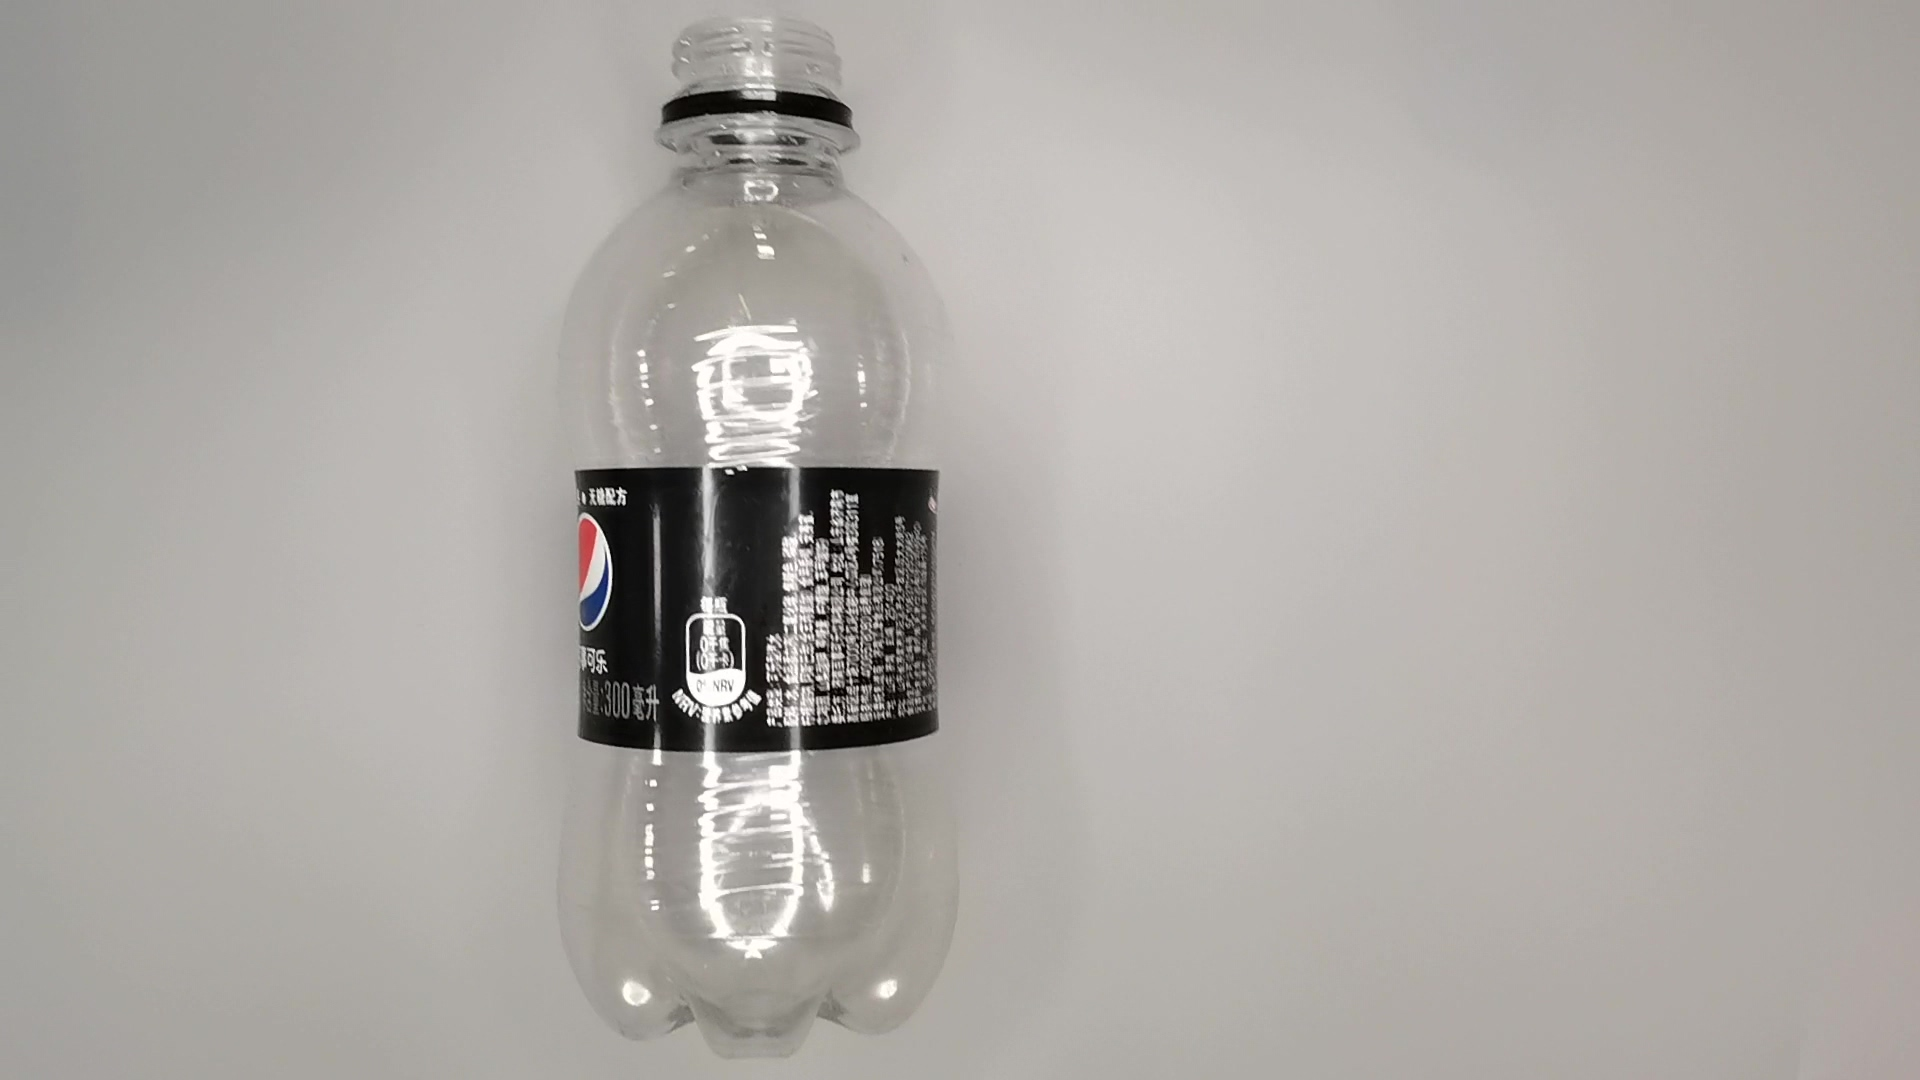bottle: (545, 1, 996, 1062)
